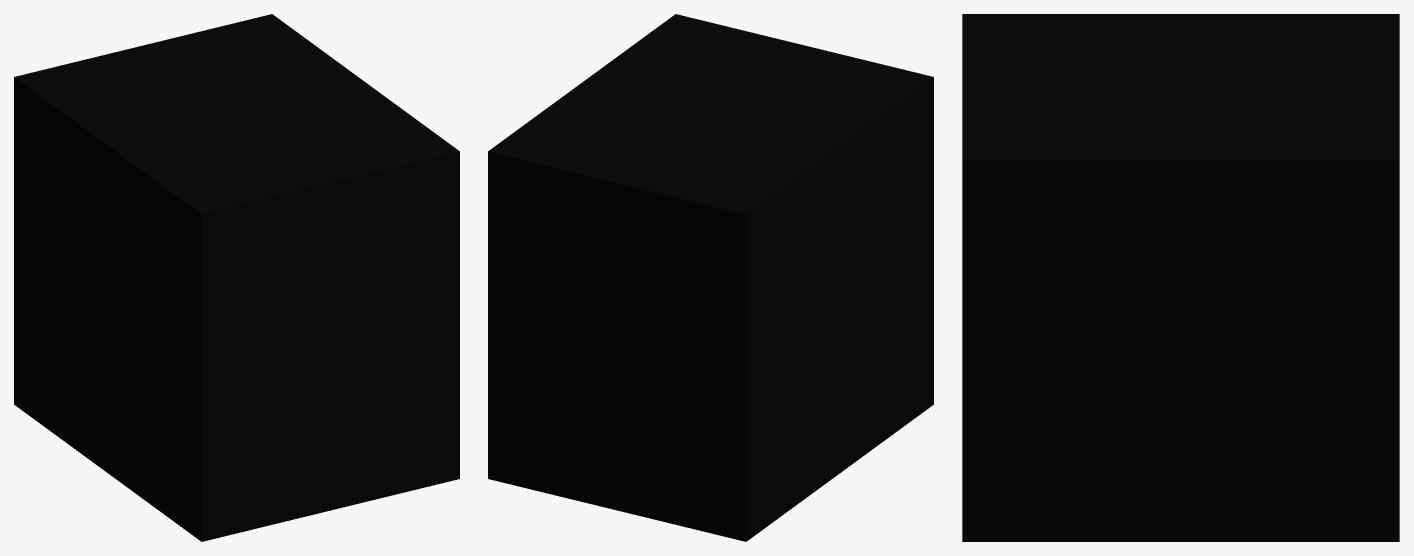
The model's file is SM_BuildingVista_01.fbx.
3 views of the same model, side by side, from view 1: azimuth 30°, elevation 25°; view 2: azimuth 150°, elevation 25°; view 3: azimuth 270°, elevation 25° (orthographic). The views are drawn at different scales.
Visible parts, largest first — view 1: SM_BuildingVista_01; view 2: SM_BuildingVista_01; view 3: SM_BuildingVista_01.
Boxes of the visible parts, x1,y1,x2,y2 form: SM_BuildingVista_01: (14, 14, 459, 541); SM_BuildingVista_01: (488, 14, 933, 541); SM_BuildingVista_01: (962, 14, 1399, 541).
Size of the model in its own units: 16.42 by 19.91 by 20.69.
